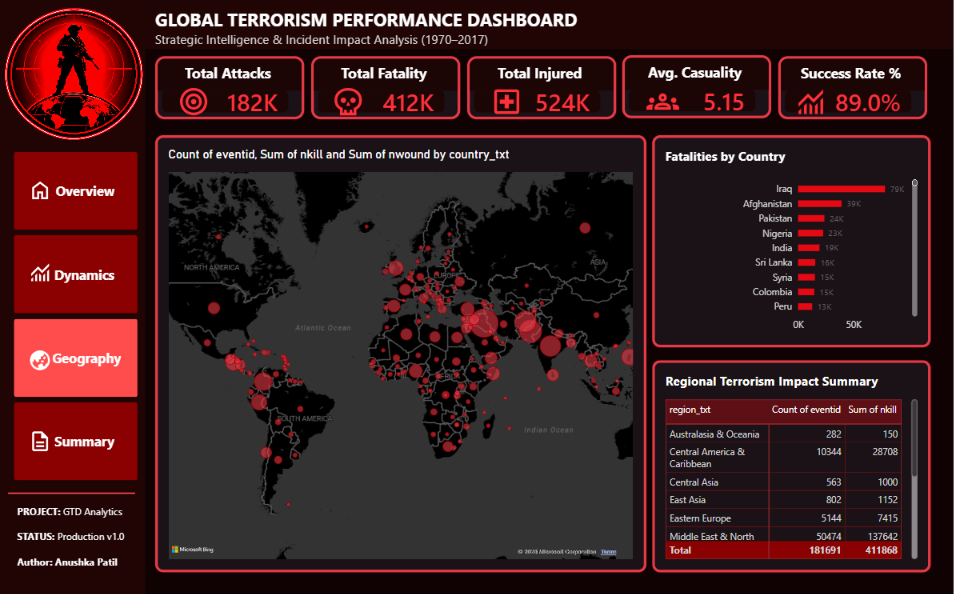

What the dashboard file says about the page in this screenshot:
{"tool":"powerbi","page":{"name":"Geography","canvas":[1440,900],"ordinal":2},"visuals":[{"type":"shape","box":[0,0,220,900],"z":0},{"type":"map","fields":{"Category":["globalterrorismdb_0718dist.country_txt"],"Size":["CountNonNull(globalterrorismdb_0718dist.eventid)"]},"box":[235.3,205.1,740.5,659],"z":1000},{"type":"clusteredBarChart","title":"Fatalities by Country","fields":{"Category":["globalterrorismdb_0718dist.country_txt"],"Y":["_Measures.Total Fatalities"]},"box":[985,205,420,320],"z":2000},{"type":"pivotTable","title":"Regional Terrorism Impact Summary","fields":{"Rows":["globalterrorismdb_0718dist.region_txt"],"Values":["CountNonNull(globalterrorismdb_0718dist.eventid)","Sum(globalterrorismdb_0718dist.nkill)"]},"box":[985,545,420,320],"z":3000},{"type":"textbox","box":[26.7,761.7,178.3,103.3],"z":5000},{"type":"shape","box":[220,0,1220,75.4],"z":6000},{"type":"textbox","box":[235,11.7,1175,63.3],"z":7000},{"type":"pageNavigator","box":[19.6,227.7,191.5,500.7],"z":8000},{"type":"cardVisual","title":"Total Attacks","fields":{"Data":["_Measures.Total Attacks"]},"box":[235.3,86.5,225,95],"z":9000,"group":"g1"},{"type":"image","box":[44.2,265.8,36,45],"z":9000},{"type":"cardVisual","title":"Total Fatality","fields":{"Data":["_Measures.Total Fatalities"]},"box":[470.3,86.5,225,95],"z":10000,"group":"g1"},{"type":"image","box":[43.3,389.2,36,45],"z":10000},{"type":"cardVisual","title":"Total Injured","fields":{"Data":["_Measures.Total Injured"]},"box":[705.3,86.5,225,95],"z":11000,"group":"g1"},{"type":"image","box":[43.3,522.5,36,45],"z":11000},{"type":"cardVisual","title":"Success Rate %","fields":{"Data":["_Measures.Success Rate %"]},"box":[1175.3,86.5,225,95],"z":12000,"group":"g1"},{"type":"image","box":[44.2,644.2,36,45],"z":12000},{"type":"group","id":"g1","title":"Group 1","box":[235.3,84.5,1164.2,98],"z":13000},{"type":"cardVisual","title":"Avg. Casuality","fields":{"Data":["_Measures.Avg Casualties per Attack"]},"box":[940.3,84.5,225,95],"z":13000,"group":"g1"},{"type":"image","box":[6,6,214,221.7],"z":13001},{"type":"shape","box":[13.6,728.4,191.5,33.2],"z":13002},{"type":"image","box":[255.2,129.2,76.9,49.8],"z":19000,"group":"g1"},{"type":"image","box":[487.4,129.2,78.4,49.8],"z":20000,"group":"g1"},{"type":"image","box":[731.7,129.2,67.9,49.8],"z":21000,"group":"g1"},{"type":"image","box":[960.9,129.2,79.9,49.8],"z":22000,"group":"g1"},{"type":"image","box":[1194.7,129.2,58.8,49.8],"z":23000,"group":"g1"}]}

Visuals, with their boxes in screenshot pixels (x1, y1, x2, y2), scaled from the page's 1440x900 canvas onto the 954x594 screenshot:
shape: x1=0 y1=0 x2=146 y2=593
map - globalterrorismdb_0718dist.country_txt x CountNonNull(globalterrorismdb_0718dist.eventid): x1=156 y1=135 x2=646 y2=570
"Fatalities by Country" clusteredBarChart: x1=653 y1=135 x2=931 y2=346
"Regional Terrorism Impact Summary" pivotTable: x1=653 y1=360 x2=931 y2=571
textbox: x1=18 y1=503 x2=136 y2=571
shape: x1=146 y1=0 x2=953 y2=50
textbox: x1=156 y1=8 x2=934 y2=50
pageNavigator: x1=13 y1=150 x2=140 y2=481
"Total Attacks" cardVisual: x1=156 y1=57 x2=305 y2=120
image: x1=29 y1=175 x2=53 y2=205
"Total Fatality" cardVisual: x1=312 y1=57 x2=461 y2=120
image: x1=29 y1=257 x2=53 y2=287
"Total Injured" cardVisual: x1=467 y1=57 x2=616 y2=120
image: x1=29 y1=345 x2=53 y2=375
"Success Rate %" cardVisual: x1=779 y1=57 x2=928 y2=120
image: x1=29 y1=425 x2=53 y2=455
"Group 1" group: x1=156 y1=56 x2=927 y2=120
"Avg. Casuality" cardVisual: x1=623 y1=56 x2=772 y2=118
image: x1=4 y1=4 x2=146 y2=150
shape: x1=9 y1=481 x2=136 y2=503
image: x1=169 y1=85 x2=220 y2=118
image: x1=323 y1=85 x2=375 y2=118
image: x1=485 y1=85 x2=530 y2=118
image: x1=637 y1=85 x2=690 y2=118
image: x1=791 y1=85 x2=830 y2=118
